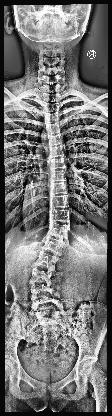Vertebrae: (42, 236, 66, 256), (31, 298, 63, 312), (35, 252, 57, 272), (31, 285, 57, 301), (29, 268, 52, 286), (48, 223, 70, 240), (51, 209, 70, 223), (50, 169, 68, 183), (52, 182, 68, 196), (51, 195, 69, 207), (44, 112, 60, 124), (49, 146, 65, 158), (50, 158, 66, 170), (46, 122, 60, 134), (48, 134, 62, 146), (42, 84, 62, 92), (42, 94, 62, 102), (44, 103, 60, 113)
